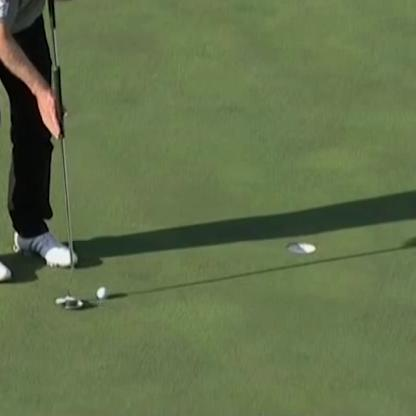golfball: (93, 282, 106, 298)
